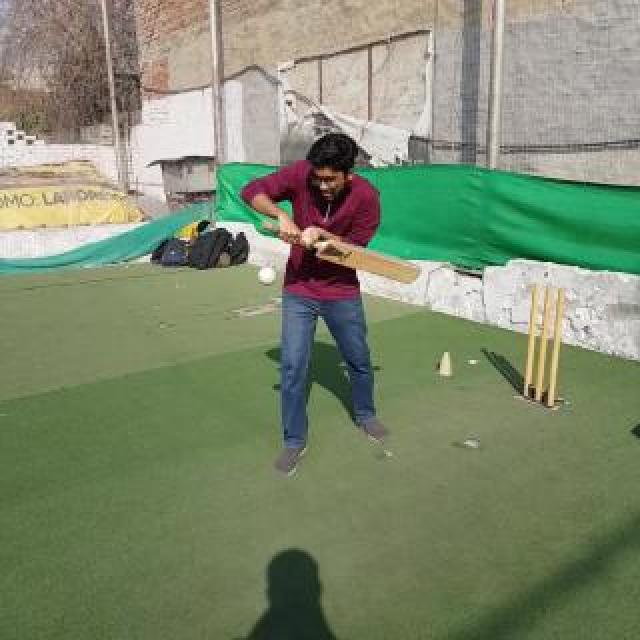ball: (260, 266, 278, 286)
bat: (262, 222, 422, 284)
